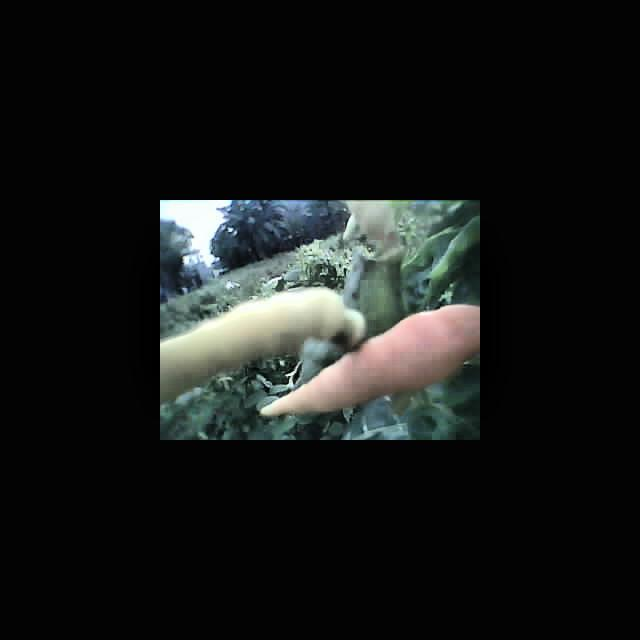Cabai: (377, 299, 479, 394)
